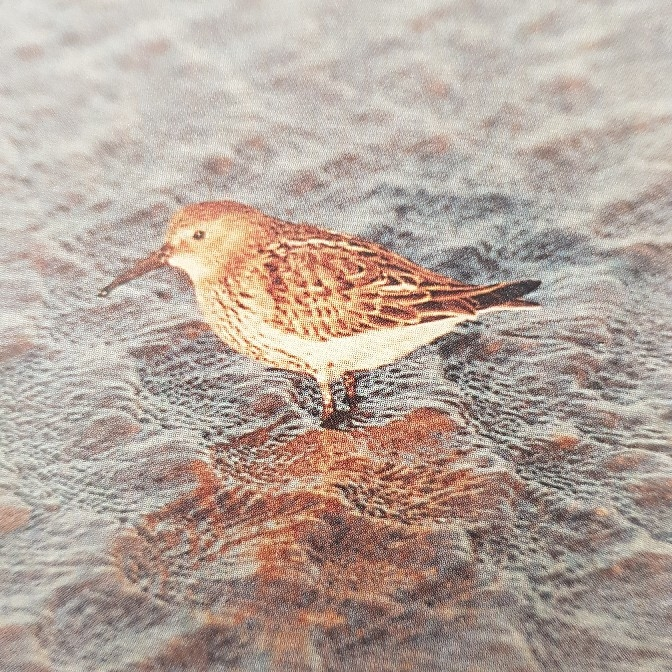Not_a_Chicken: (82, 180, 561, 444)
